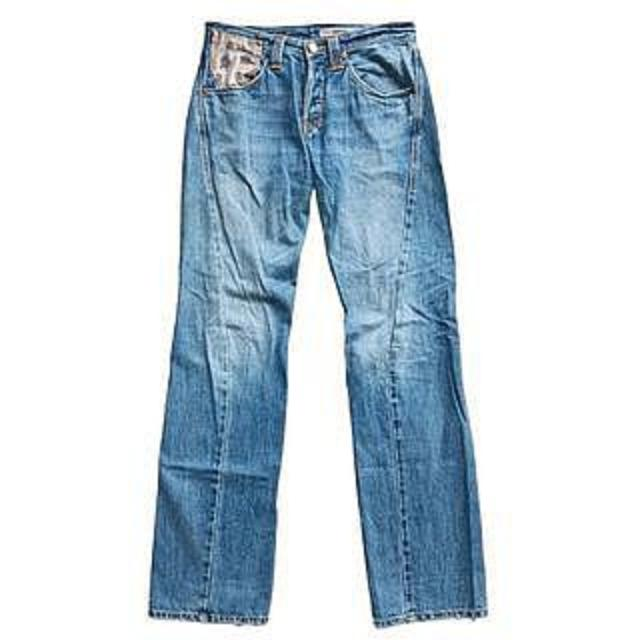TROUSER: (137, 14, 533, 630)
